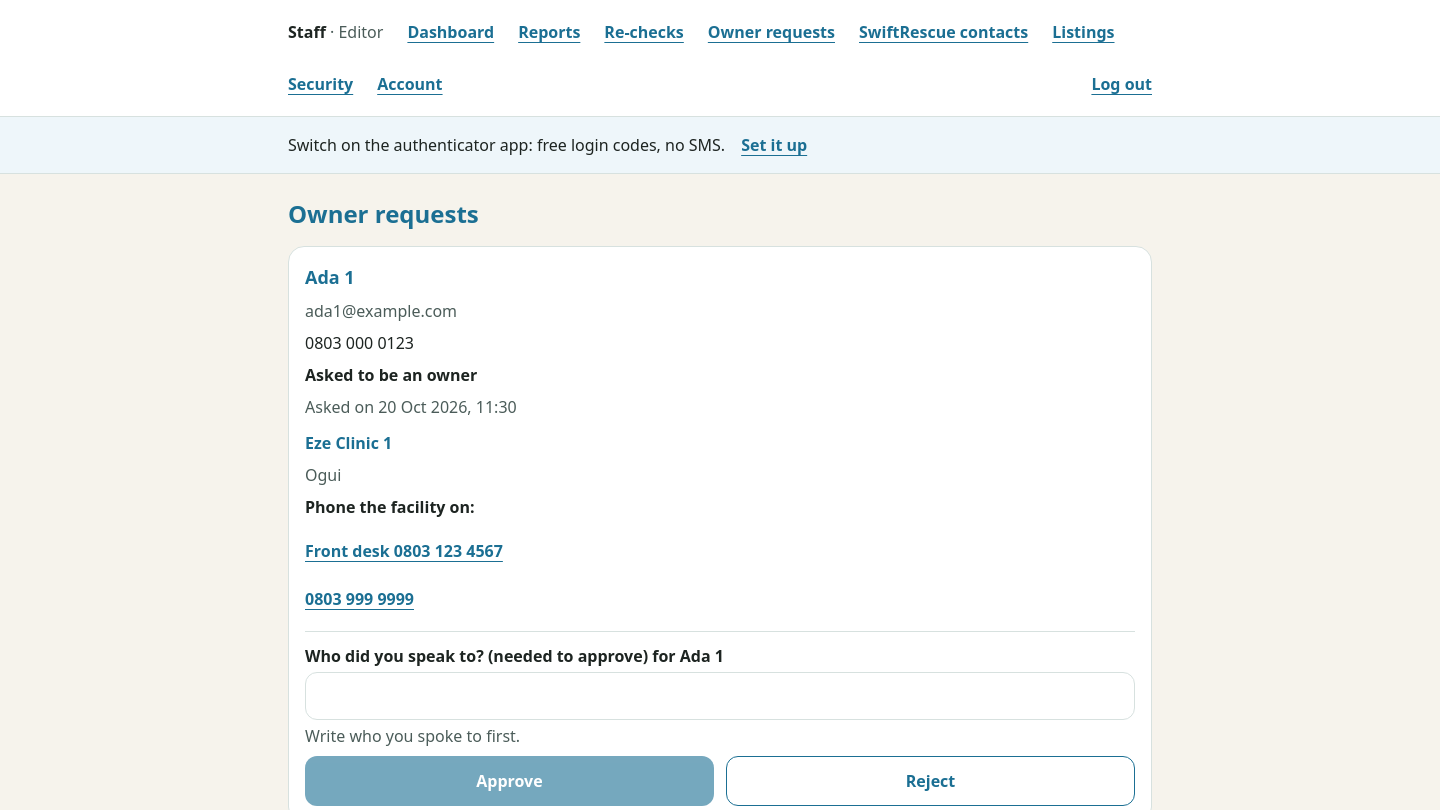
Scenario: approving › is off until the note says who was reached, and says why
This screenshot has width=1440, height=810.
Expected: the button with aria-label "Approve Ada 1" is disabled, [305,756,714,806]
Expected: the text "Write who you spoke to first." is shown, [305,725,520,747]
Type "Mrs Eze, the matron" into the field labelled "Who did you speak to? (needed to approve) for Ada 1" at [720, 696], box [305,672,1135,720]
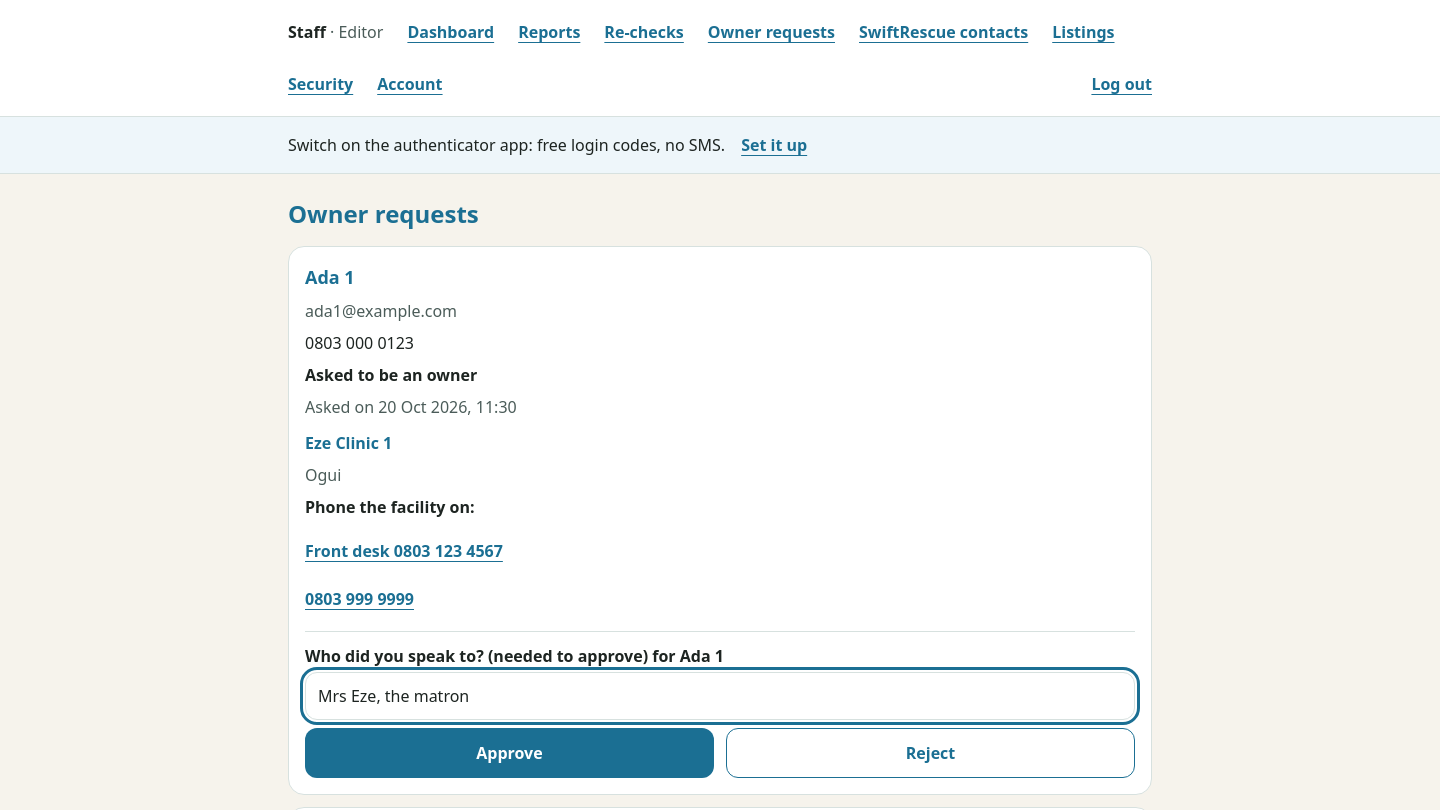
Now the button with aria-label "Approve Ada 1" is enabled, box [305,728,714,778]
